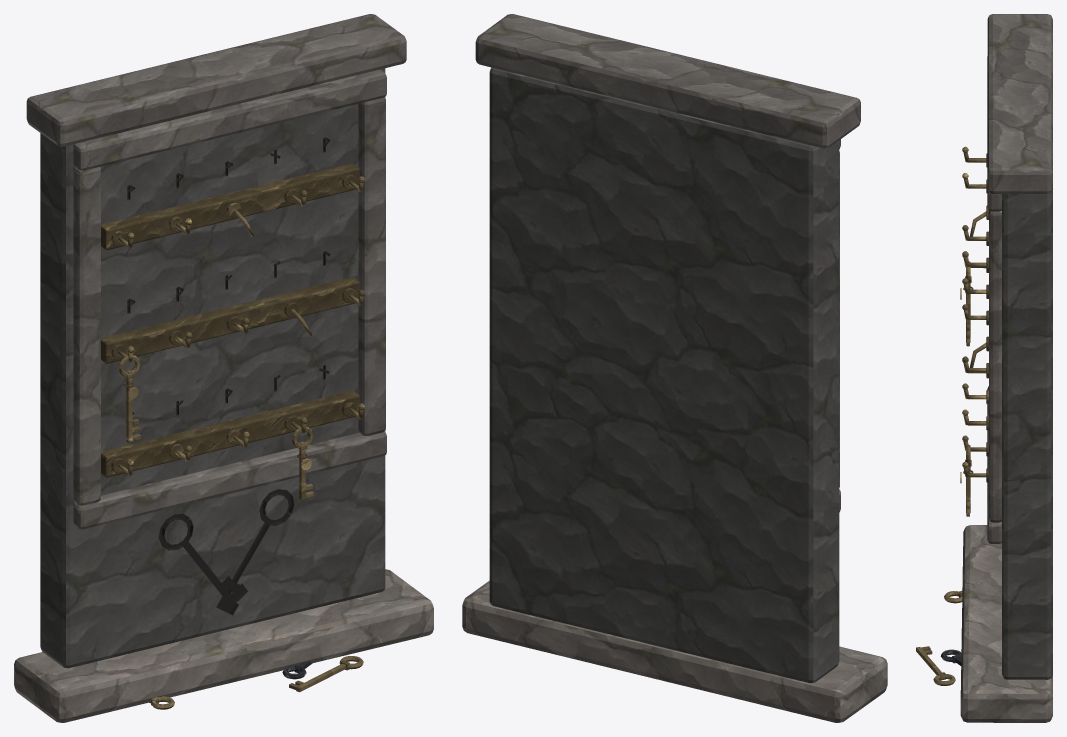
Rendered from bv_key_rack_looted.glb.
The picture shows the model from 3 angles, left to right: view 1: azimuth 30°, elevation 25°; view 2: azimuth 150°, elevation 25°; view 3: azimuth 270°, elevation 25°; orthographic projection. The views are drawn at different scales.
Visible parts, largest first — view 1: model; view 2: model; view 3: model.
Boxes of the visible parts, x1=… form: model: x1=14, y1=14, x2=433, y2=722; model: x1=462, y1=14, x2=887, y2=722; model: x1=916, y1=14, x2=1052, y2=722.
Bounding box in the file's own units: 1.11 × 1.67 × 0.3768.
8 materials, 7 textured.
